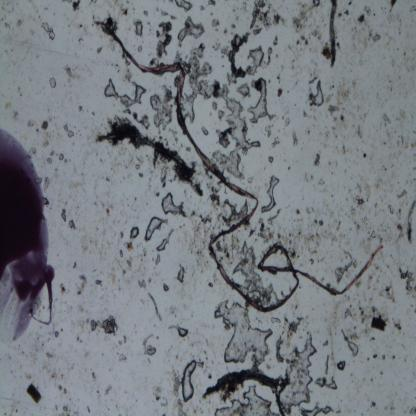Air bubble: (0, 127, 55, 344), (183, 51, 263, 178), (216, 298, 272, 366), (279, 336, 315, 408), (233, 241, 273, 300), (204, 383, 276, 415), (104, 76, 146, 109), (249, 78, 271, 125), (148, 93, 174, 130), (260, 174, 280, 214), (144, 214, 168, 242), (244, 44, 264, 74), (223, 198, 247, 222), (161, 192, 183, 216), (183, 357, 194, 403), (308, 79, 325, 108), (315, 376, 339, 392), (171, 321, 190, 338), (299, 406, 333, 415), (128, 223, 141, 243), (173, 0, 194, 12), (347, 340, 359, 358), (155, 238, 170, 251), (133, 19, 143, 38), (176, 266, 186, 284), (201, 124, 210, 138)
Background material: (202, 368, 282, 401), (284, 204, 324, 263), (292, 0, 325, 46), (224, 31, 247, 85), (250, 0, 282, 38), (388, 126, 412, 172), (345, 180, 372, 220), (252, 209, 282, 243), (355, 305, 390, 331), (154, 19, 176, 59), (332, 251, 359, 283), (326, 90, 350, 126), (188, 228, 212, 263), (178, 16, 205, 44), (216, 238, 243, 266), (89, 313, 118, 338), (397, 266, 416, 296), (140, 330, 159, 358), (284, 315, 304, 338), (338, 327, 362, 345), (354, 7, 373, 29), (205, 180, 221, 206), (170, 364, 181, 400), (378, 284, 398, 303), (26, 383, 42, 405), (111, 2, 130, 20), (40, 21, 57, 41), (190, 211, 212, 226), (133, 154, 145, 180), (366, 228, 382, 246), (159, 166, 170, 191), (343, 302, 356, 323), (132, 112, 150, 127), (11, 10, 25, 29), (75, 274, 88, 294), (211, 103, 225, 121), (338, 0, 352, 18), (276, 337, 286, 362), (396, 219, 406, 242), (122, 56, 132, 79), (160, 10, 178, 21), (312, 151, 323, 169), (367, 30, 382, 43), (174, 400, 186, 416), (395, 186, 408, 200), (381, 111, 391, 129), (63, 122, 74, 138), (152, 385, 162, 402), (47, 148, 57, 165), (386, 1, 398, 15), (391, 316, 402, 331), (68, 0, 81, 12), (67, 217, 78, 231), (270, 315, 282, 327), (265, 48, 273, 66), (354, 125, 364, 139), (386, 202, 396, 216), (65, 64, 72, 83), (324, 353, 330, 375), (359, 150, 370, 162), (117, 350, 127, 363), (272, 69, 281, 83), (57, 383, 67, 395), (336, 360, 346, 372), (138, 278, 148, 290), (104, 383, 113, 396), (264, 124, 272, 138), (272, 135, 280, 149), (40, 121, 50, 132), (28, 147, 38, 158), (57, 282, 67, 293), (26, 117, 36, 128), (62, 404, 72, 415), (162, 280, 171, 292), (48, 77, 57, 89), (61, 208, 68, 223), (124, 241, 134, 251), (292, 132, 298, 148), (196, 358, 205, 368), (154, 254, 162, 265), (276, 88, 284, 99), (271, 35, 279, 46), (283, 117, 291, 128), (46, 350, 54, 361), (44, 175, 50, 189), (78, 100, 84, 114), (142, 244, 148, 258), (118, 336, 126, 346), (317, 178, 327, 186), (211, 18, 219, 28), (206, 370, 212, 382), (103, 207, 111, 216), (94, 46, 103, 54), (378, 353, 386, 362), (117, 249, 124, 259), (323, 338, 330, 348), (13, 112, 20, 122), (58, 152, 65, 162), (206, 0, 217, 6), (90, 370, 96, 381), (370, 400, 378, 408), (408, 406, 416, 414), (409, 4, 416, 13), (72, 260, 78, 270), (119, 230, 125, 240), (126, 258, 132, 268), (207, 281, 214, 289), (267, 156, 274, 164), (96, 279, 102, 287), (86, 404, 92, 412), (390, 352, 396, 360), (54, 329, 59, 337), (372, 353, 378, 359), (155, 191, 161, 196)
Cellulose filter fibre: (94, 121, 195, 181), (329, 0, 339, 68), (147, 291, 163, 322), (406, 198, 416, 245)
Cotton: (102, 23, 384, 314)
